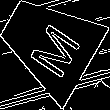M_NW: (17, 10, 79, 76)
